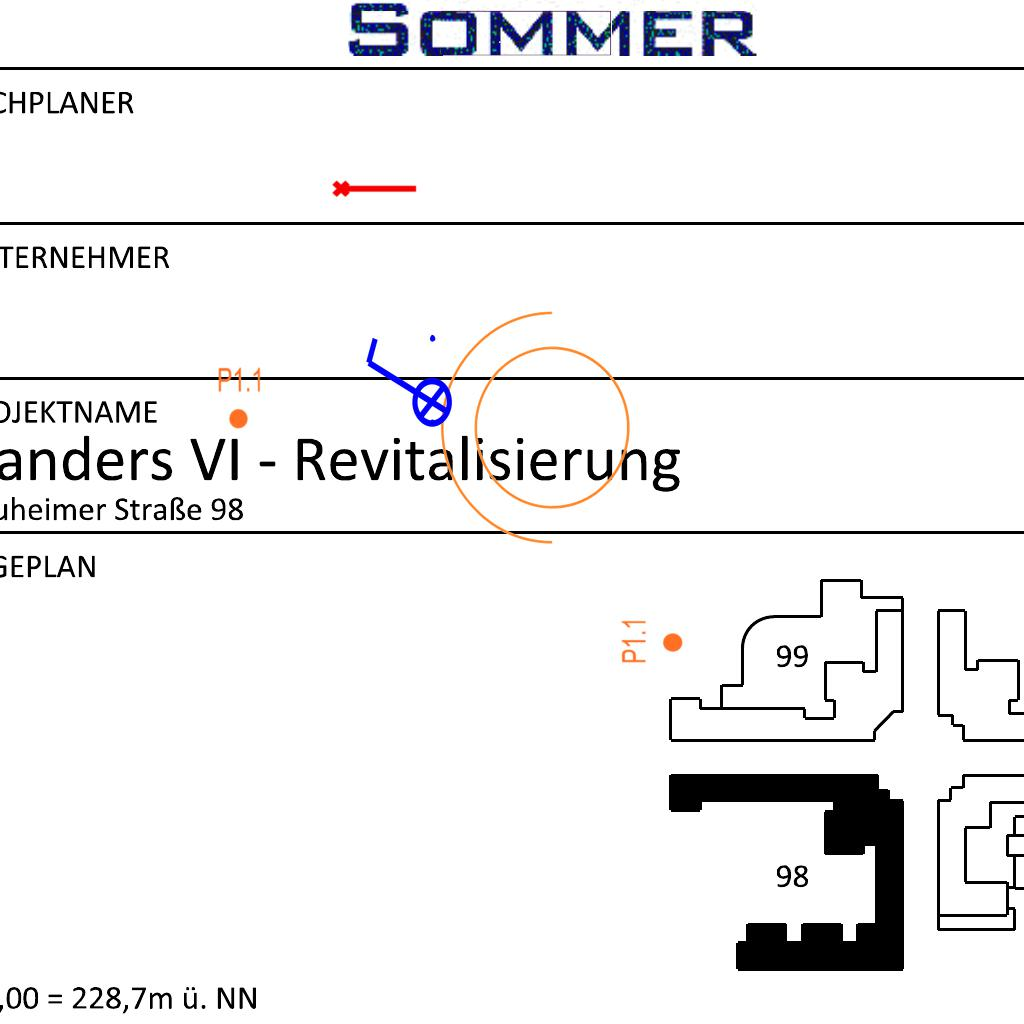ASR_Ansaugoeffnung: (331, 176, 419, 199)
Ausschalter_beleuchtet: (358, 329, 454, 441)
Downlight_LED_Einbauleuchten_Flur: (620, 618, 684, 664), (217, 366, 263, 430)
Scheinwerfer_fuer_Alarmbeleuchtung: (430, 302, 655, 566)
